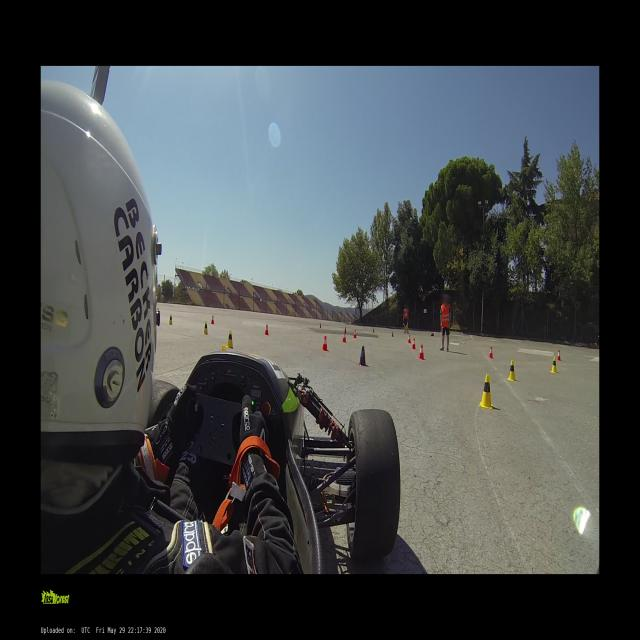blue_cone: (358, 346, 367, 366), (392, 330, 393, 337), (373, 327, 374, 333), (345, 326, 346, 332), (320, 323, 321, 328)
orange_cone: (322, 335, 328, 352), (418, 344, 424, 360), (488, 346, 493, 358), (264, 324, 269, 335), (412, 338, 416, 349), (557, 350, 561, 361), (343, 331, 346, 343), (211, 315, 214, 324), (408, 335, 411, 343), (354, 330, 356, 339)
yellow_cone: (479, 374, 493, 410), (508, 359, 516, 381), (550, 357, 557, 373), (227, 330, 233, 348), (203, 322, 208, 334), (169, 314, 172, 325)
